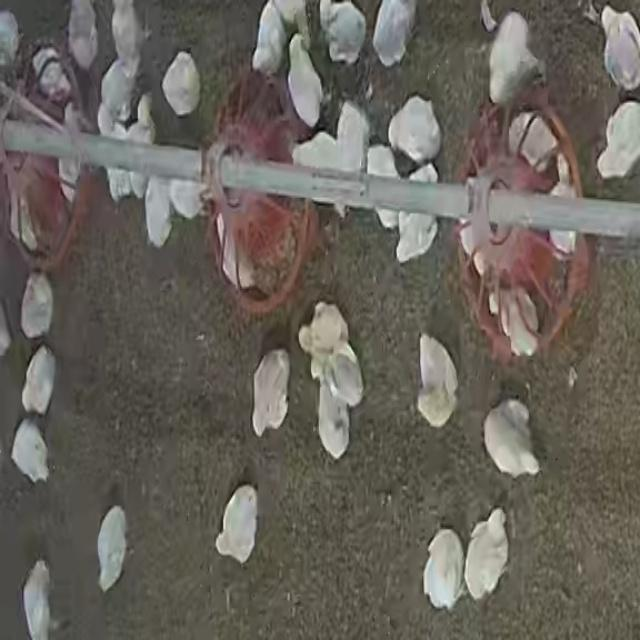chicken: (486, 8, 542, 112), (482, 400, 539, 478), (463, 510, 511, 602), (291, 130, 348, 206), (486, 278, 540, 358), (416, 334, 459, 429), (386, 95, 441, 168), (297, 302, 347, 380), (91, 100, 131, 197), (542, 158, 580, 258), (250, 347, 291, 438), (213, 484, 259, 564), (598, 7, 640, 94), (126, 84, 158, 197), (596, 101, 640, 182), (424, 528, 467, 609), (370, 0, 418, 69), (286, 36, 322, 127), (318, 1, 366, 66), (511, 111, 561, 173), (56, 103, 87, 203), (366, 143, 402, 227), (109, 0, 147, 78), (316, 377, 351, 461), (96, 505, 129, 593), (338, 102, 368, 197), (251, 1, 289, 75), (98, 57, 136, 129), (10, 418, 50, 485), (161, 49, 201, 116), (218, 217, 254, 290), (20, 347, 56, 417), (395, 210, 439, 264), (22, 560, 52, 638), (325, 350, 365, 408), (20, 272, 54, 339), (66, 0, 98, 69), (29, 48, 72, 99), (144, 178, 176, 246), (168, 177, 205, 227)
